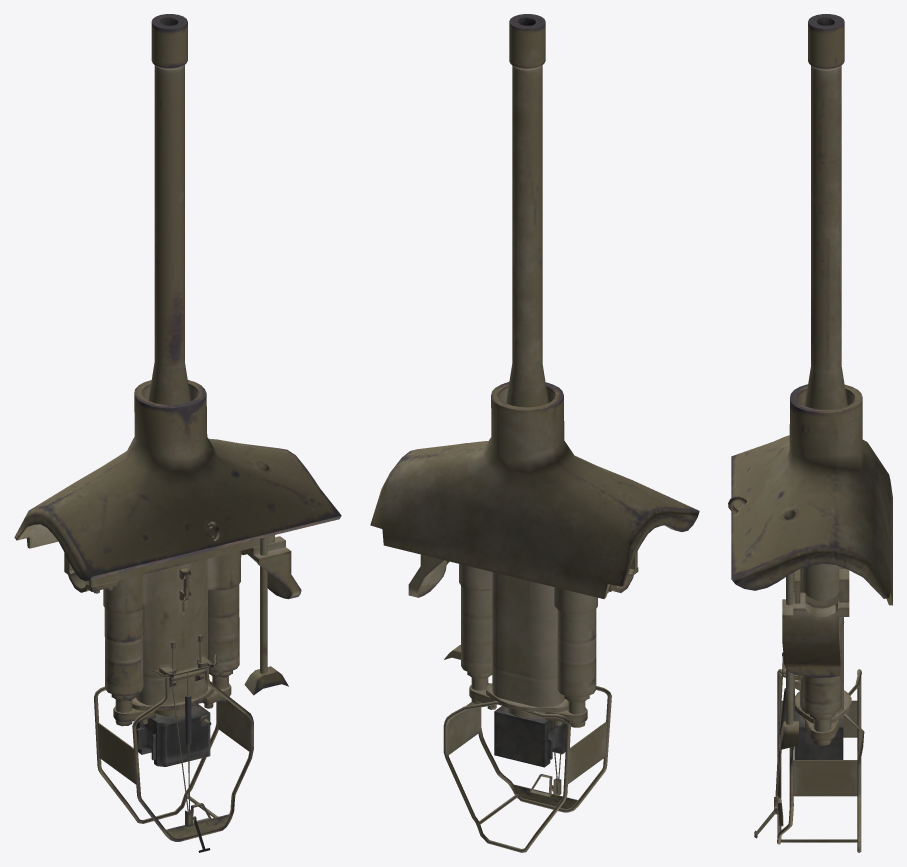
File: Gun_06.glb
3 renders of one model, left to right at view 1: azimuth 30°, elevation 25°; view 2: azimuth 150°, elevation 25°; view 3: azimuth 270°, elevation 25°, orthographic.
Parts seen in each view (by area): view 1: set_0_group_0; view 2: set_0_group_0; view 3: set_0_group_0.
Boxes of the visible parts, x1,y1,x2,y2 form: set_0_group_0: (14,14,341,852); set_0_group_0: (370,14,699,852); set_0_group_0: (728,14,892,852).
Bounding box in the file's own units: 0.945 × 2.94 × 0.5343.
1 material, 1 textured.
